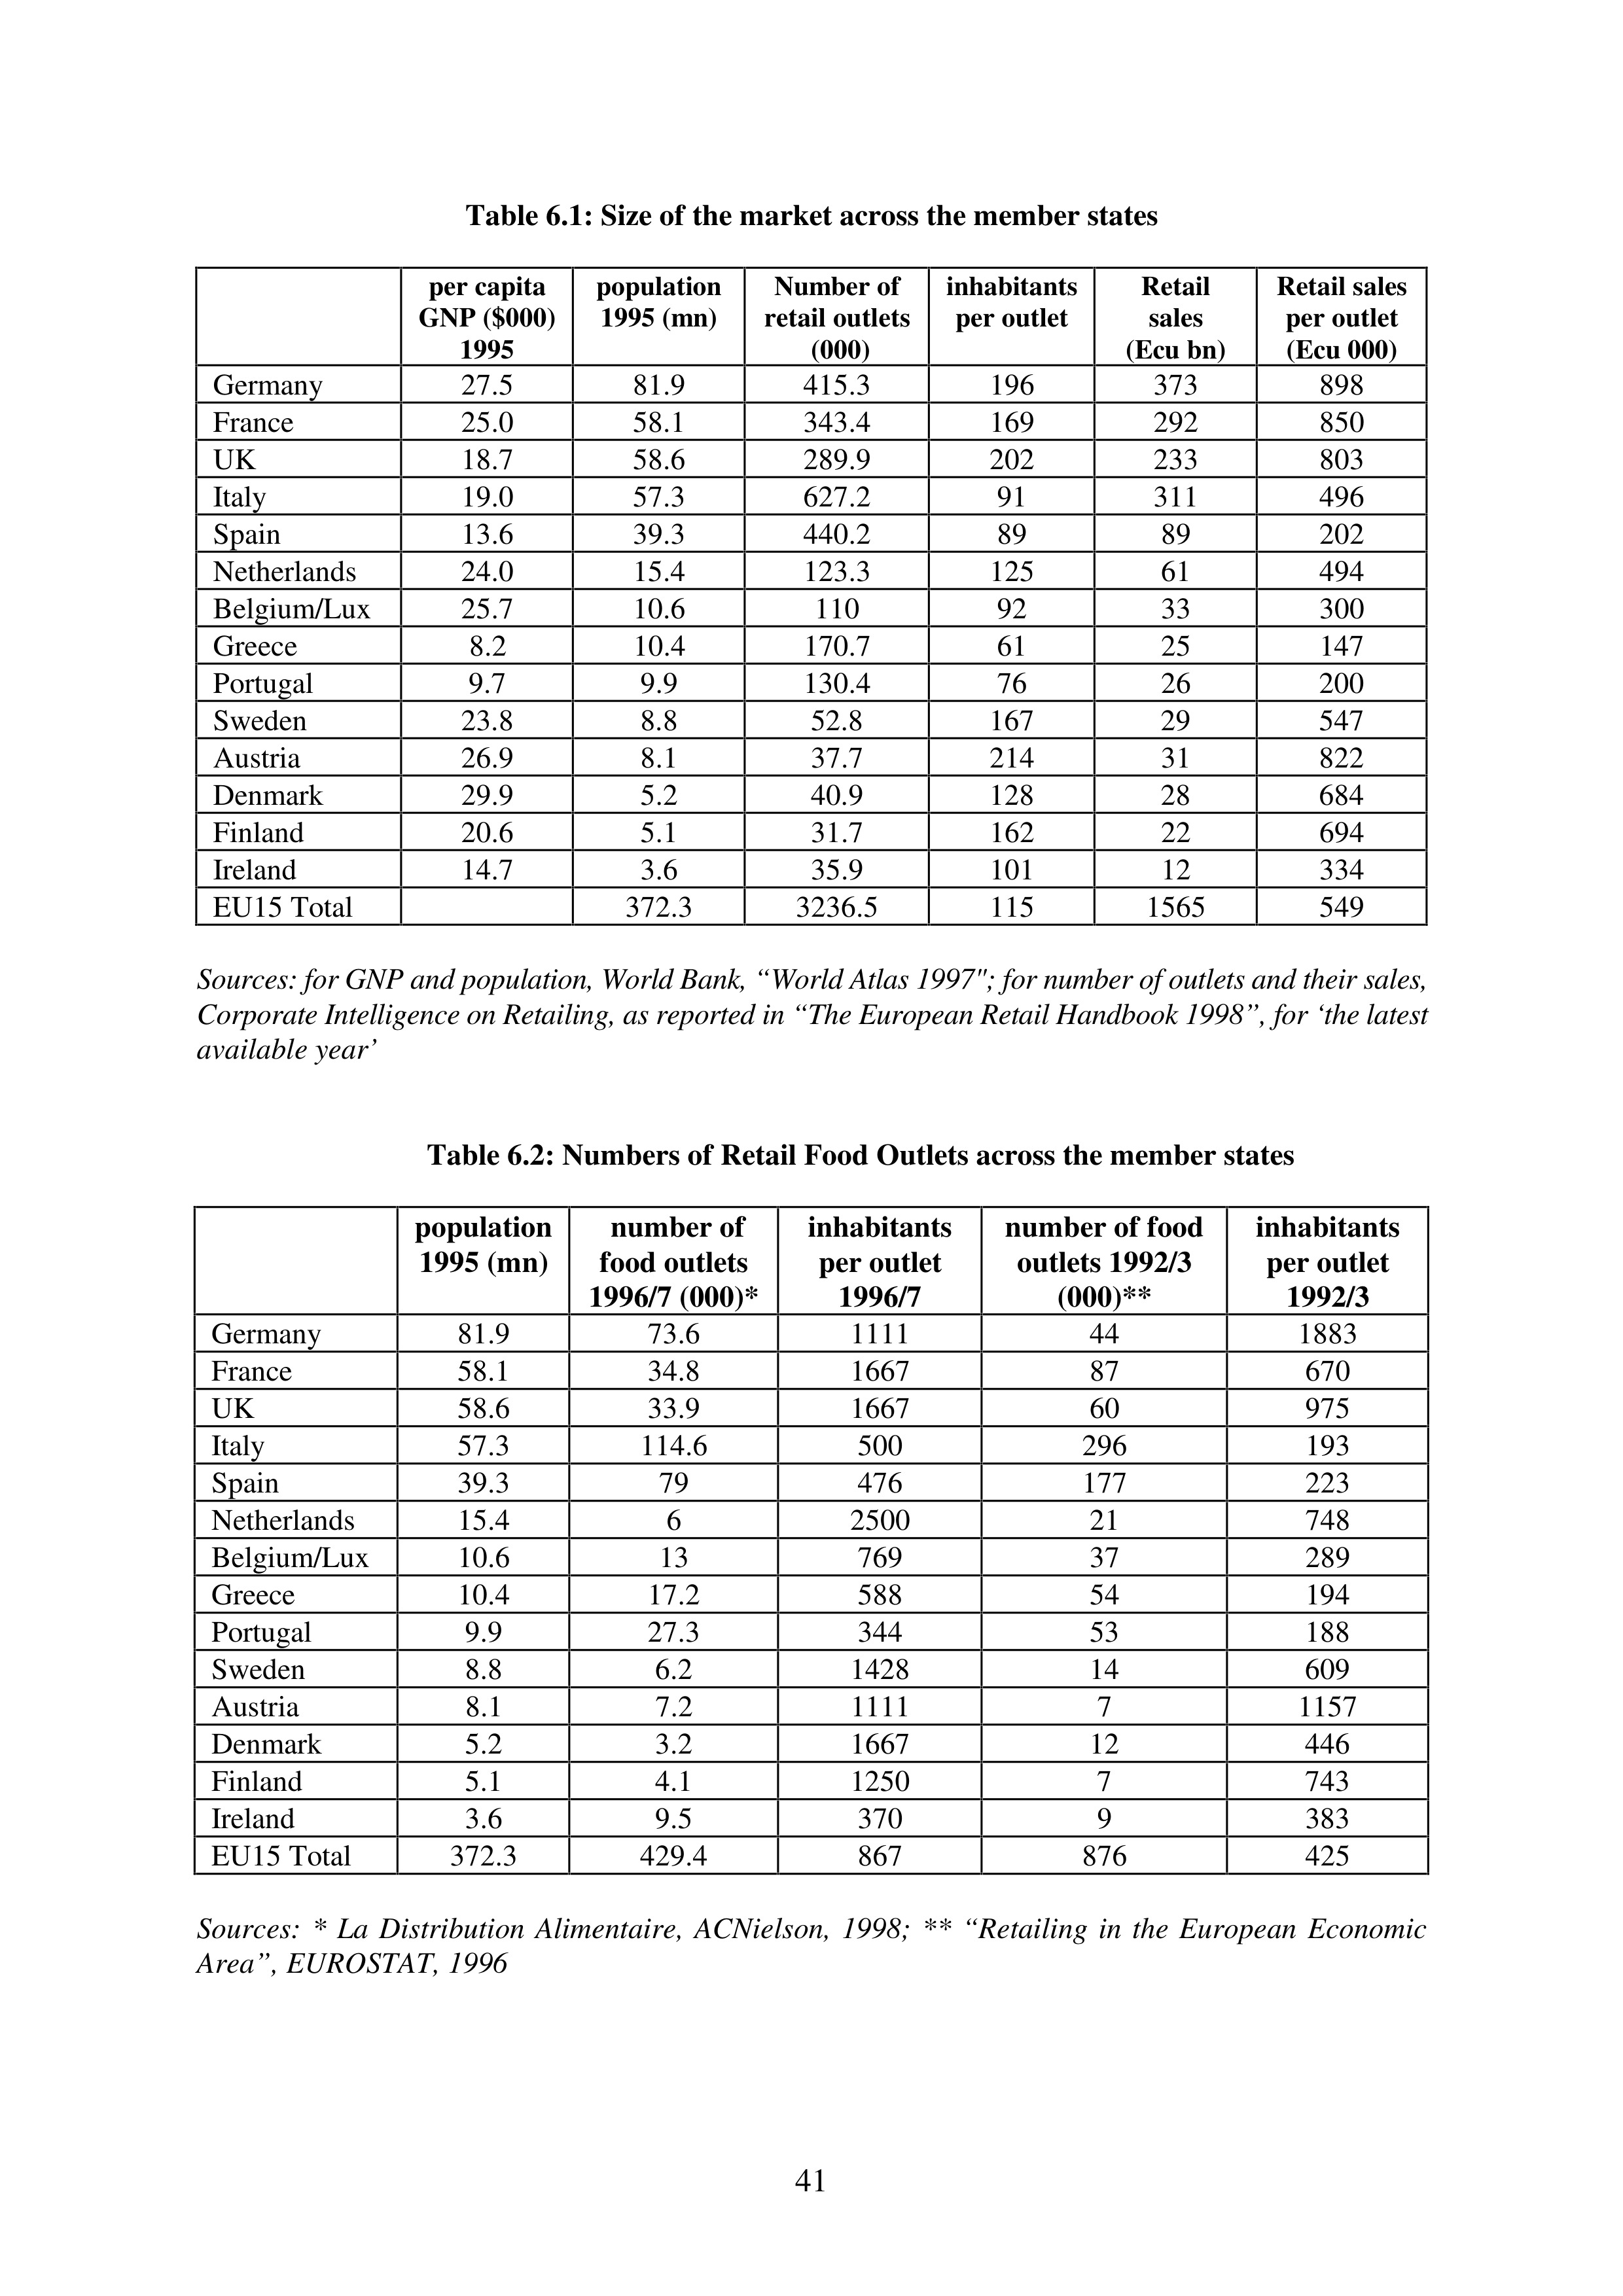table: (211, 1206, 1400, 1875), (213, 267, 1407, 925)
